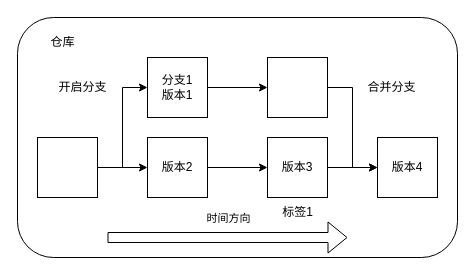
Some shapes in this 475 by 275 pixel diagram are drawn without their labels. The shapes that lost their labels are listed below. From the top down, each one's box as (x1, y1, x2, y2) in pixels, then its label:
(266, 56, 328, 118): 分支1 版本2
(36, 136, 98, 198): 版本1
